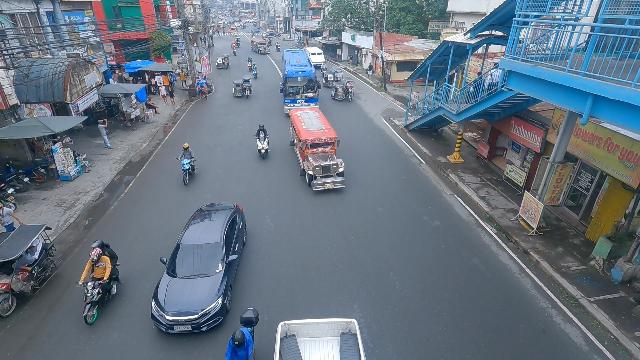bus: (282, 48, 321, 112)
car: (148, 201, 248, 339)
jeepney: (288, 108, 346, 193), (250, 38, 271, 54)
motorcycle: (78, 236, 121, 324), (175, 143, 200, 186), (255, 122, 271, 161), (246, 56, 253, 72), (252, 64, 258, 80), (275, 41, 281, 52), (267, 37, 273, 46), (232, 46, 237, 56), (234, 29, 238, 38)
van: (304, 47, 326, 67)
